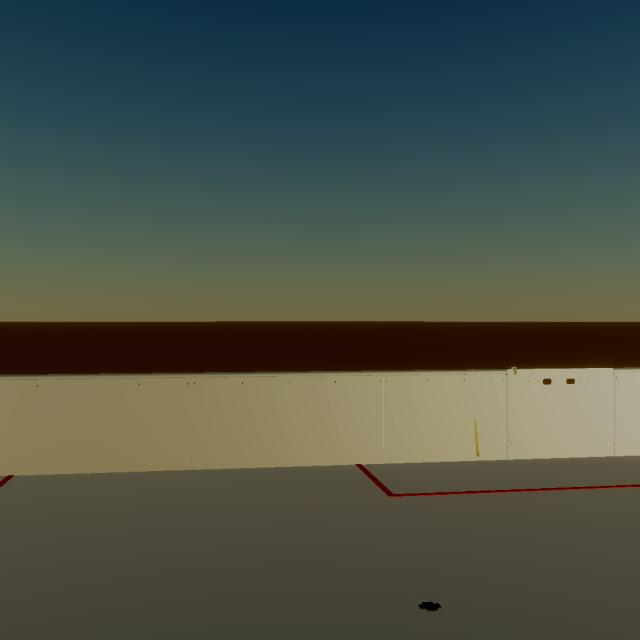frc_cone: (474, 420, 480, 456)
